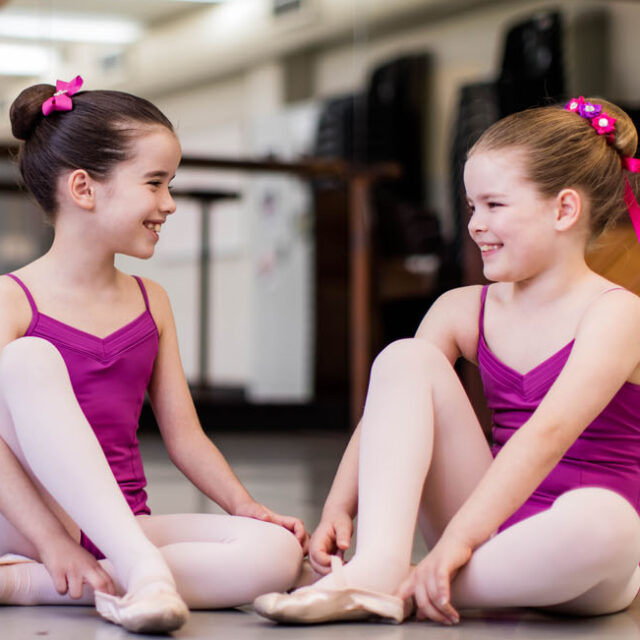human: (47, 97, 187, 262), (451, 134, 584, 286)
